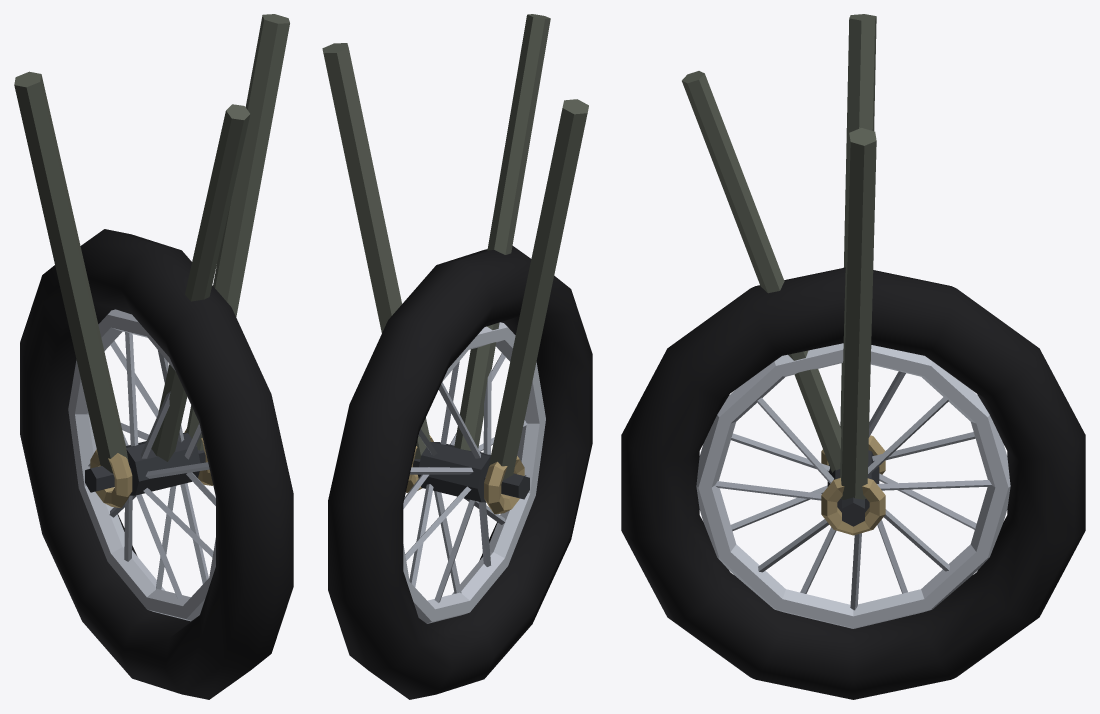
Rendered from wheel_biplane_spoke.glb.
The picture shows the model from 3 angles, left to right: view 1: azimuth 30°, elevation 25°; view 2: azimuth 150°, elevation 25°; view 3: azimuth 270°, elevation 25°; orthographic projection. The views are drawn at different scales.
Visible parts, largest first — view 1: Wheel, LegMesh; view 2: Wheel, LegMesh; view 3: Wheel, LegMesh.
Part boxes in pixels (x1,y1,x2,y2): Wheel: (20, 229, 293, 699); LegMesh: (14, 14, 289, 508); Wheel: (328, 246, 592, 699); LegMesh: (322, 14, 588, 514); Wheel: (621, 267, 1085, 699); LegMesh: (682, 14, 885, 535).
Size of the model in its own units: 0.6622 by 1.46 by 0.9847.
